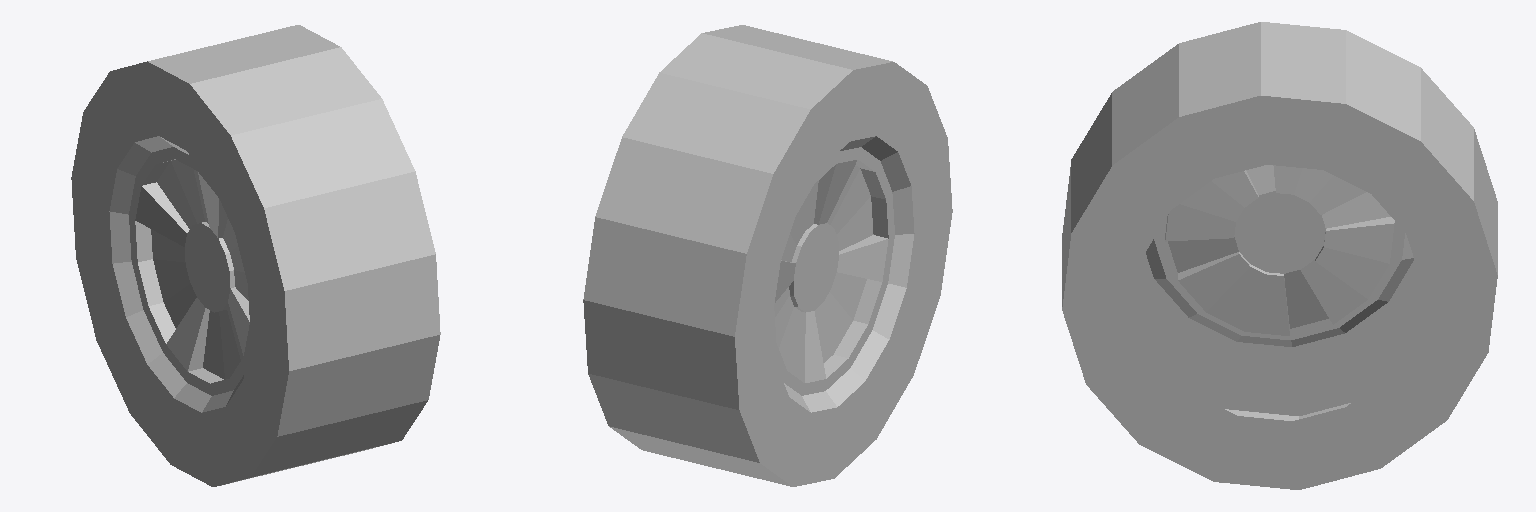
Rendered from wheelr.obj.
The picture shows the model from 3 angles: view 1: azimuth 30°, elevation 25°; view 2: azimuth 150°, elevation 25°; view 3: azimuth 270°, elevation 25°; orthographic projection.
Visible parts, largest first — view 1: car-normal-red.006_Cube.016; view 2: car-normal-red.006_Cube.016; view 3: car-normal-red.006_Cube.016.
Part boxes in pixels (x1,y1,x2,y2): car-normal-red.006_Cube.016: (71,25,440,486); car-normal-red.006_Cube.016: (583,25,952,486); car-normal-red.006_Cube.016: (1062,22,1497,489).
Size of the model in its own units: 0.144 by 0.3586 by 0.3586.